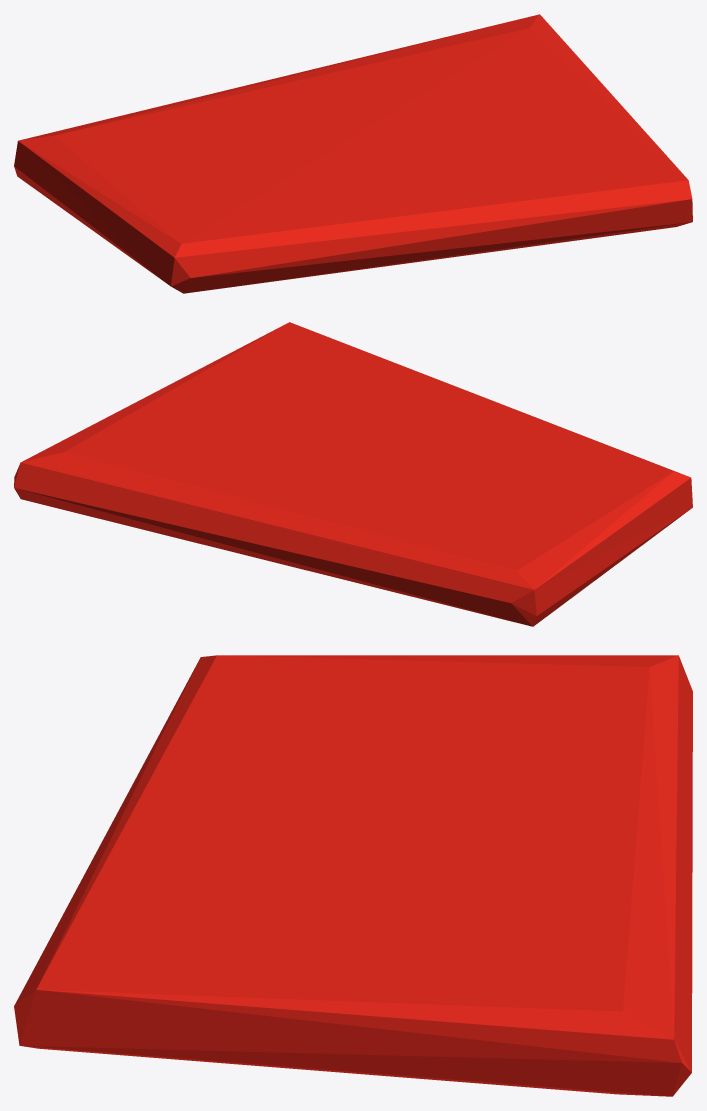
File: Debri_02.fbx
3 renders of one model, top to bottom at view 1: azimuth 30°, elevation 25°; view 2: azimuth 150°, elevation 25°; view 3: azimuth 270°, elevation 25°, orthographic. The views are drawn at different scales.
Parts seen in each view (by area): view 1: Cube.008; view 2: Cube.008; view 3: Cube.008.
Boxes of the visible parts, x1,y1,x2,y2 form: Cube.008: (14,14,692,293); Cube.008: (14,322,692,626); Cube.008: (14,655,692,1096).
Bounding box in the file's own units: 413 × 35.63 × 303.
